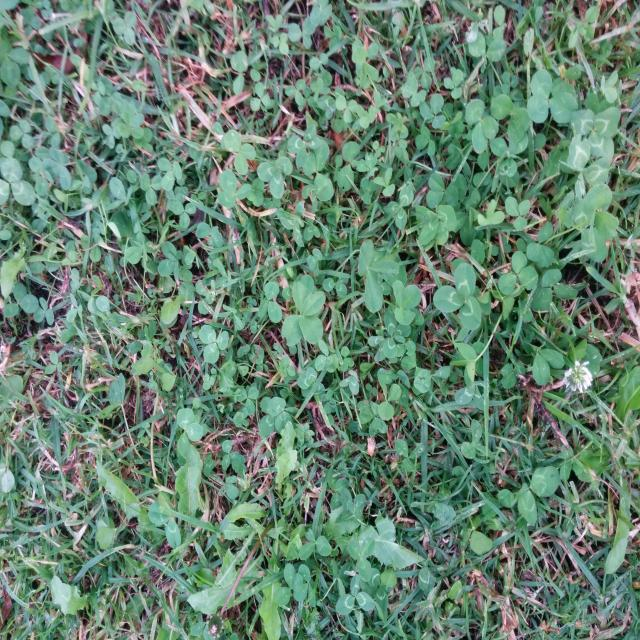Four Leaf Clover: (281, 281, 326, 346)
